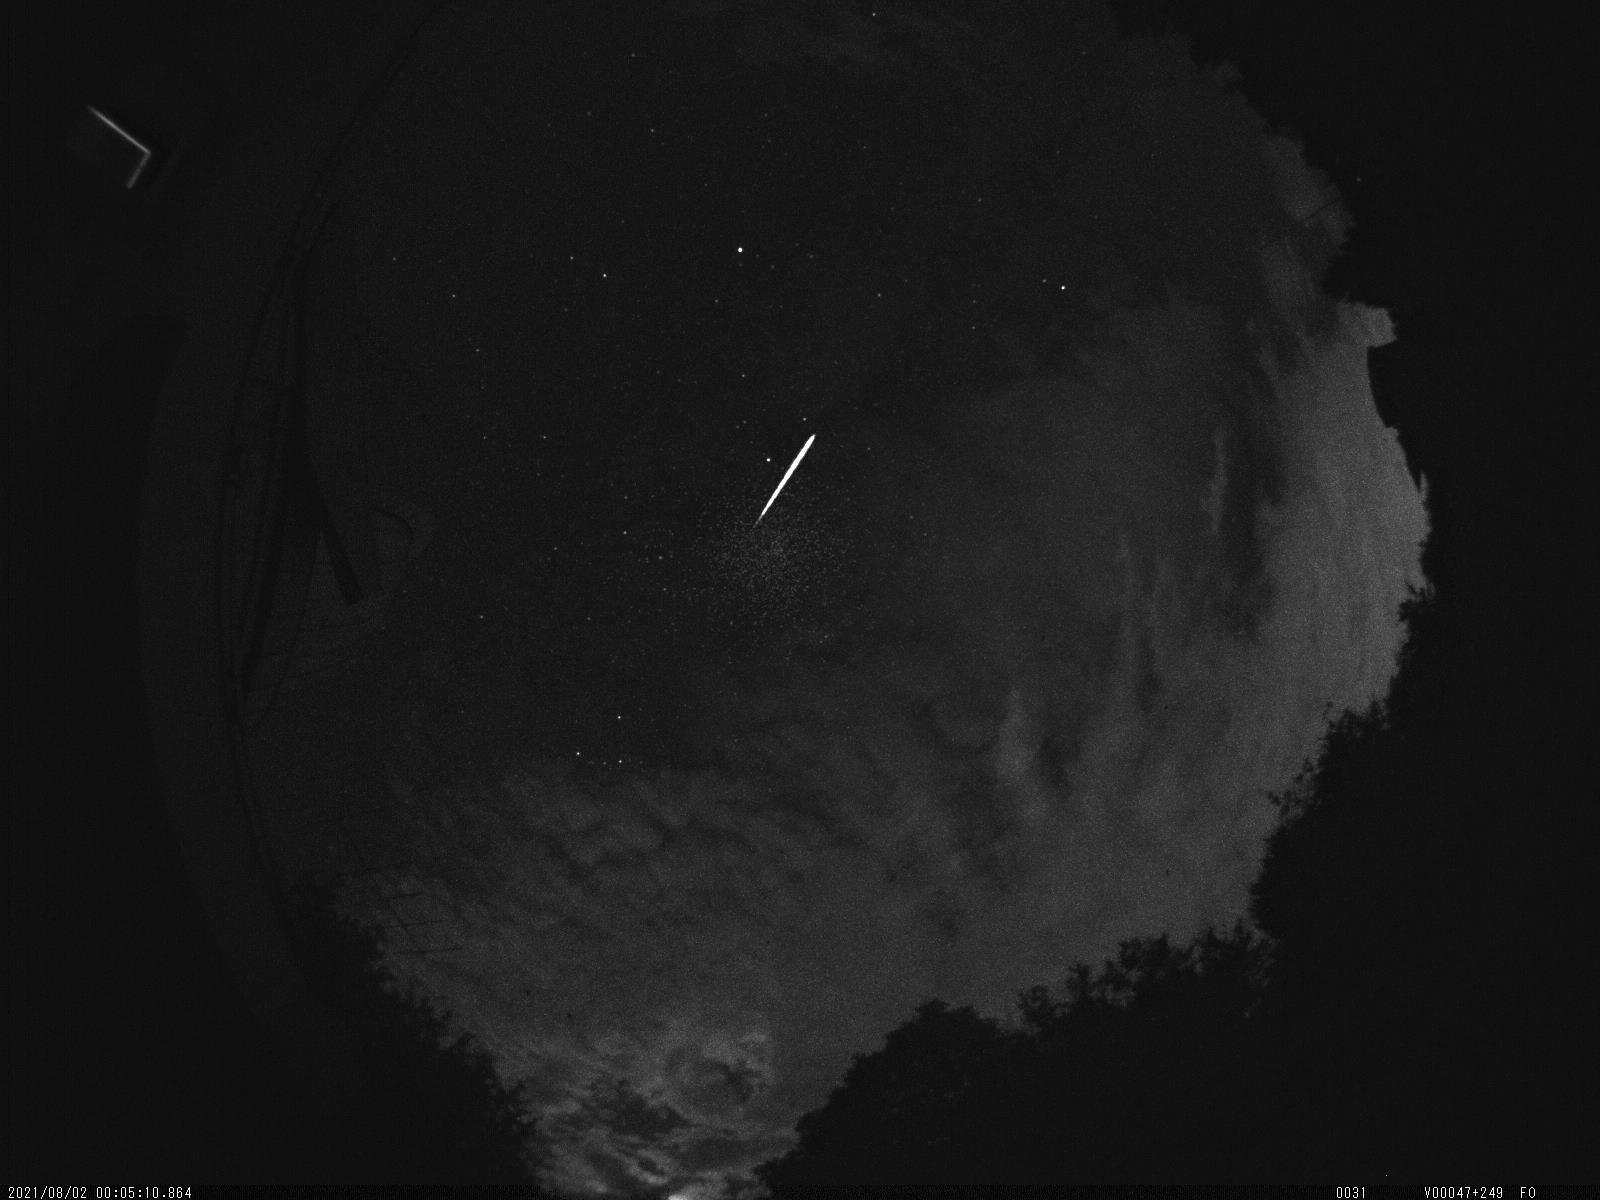Meteor: (740, 420, 829, 541)
